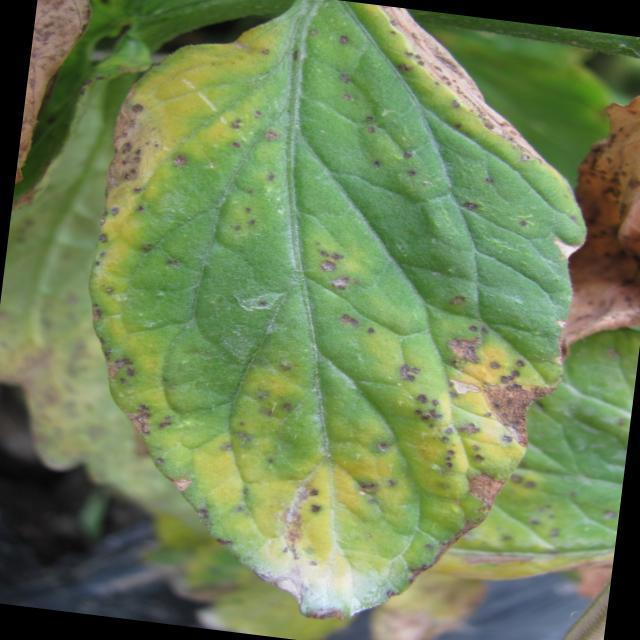Bacterial Spot: (66, 84, 550, 542)
